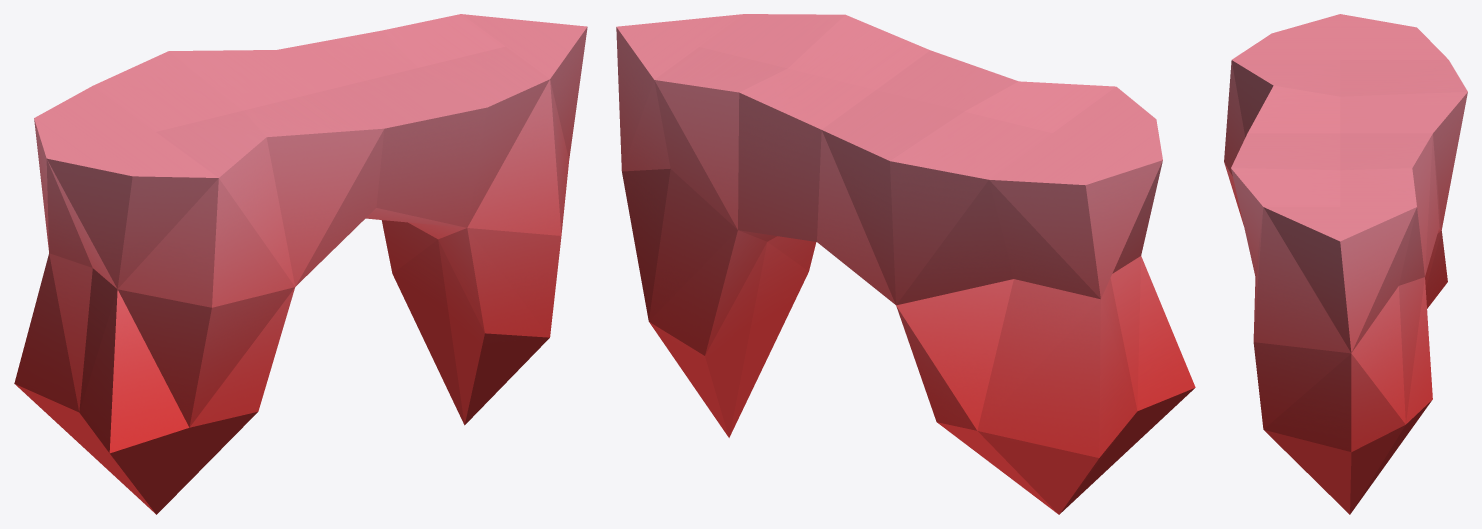
Rendered from MOD_PlatformV3_hoog.fbx.
3 views of the same model, side by side, from view 1: azimuth 30°, elevation 25°; view 2: azimuth 150°, elevation 25°; view 3: azimuth 270°, elevation 25° (orthographic). The views are drawn at different scales.
Parts seen in each view (by area): view 1: MOD_PlatformsFloating_Hoog; view 2: MOD_PlatformsFloating_Hoog; view 3: MOD_PlatformsFloating_Hoog.
Part boxes in pixels (left/top/right/bottom): MOD_PlatformsFloating_Hoog: left=14, top=14, right=587, bottom=514; MOD_PlatformsFloating_Hoog: left=616, top=14, right=1195, bottom=514; MOD_PlatformsFloating_Hoog: left=1224, top=14, right=1467, bottom=514.
Size of the model in its own units: 4.96 by 3.37 by 2.25.
1 material, 1 textured.
